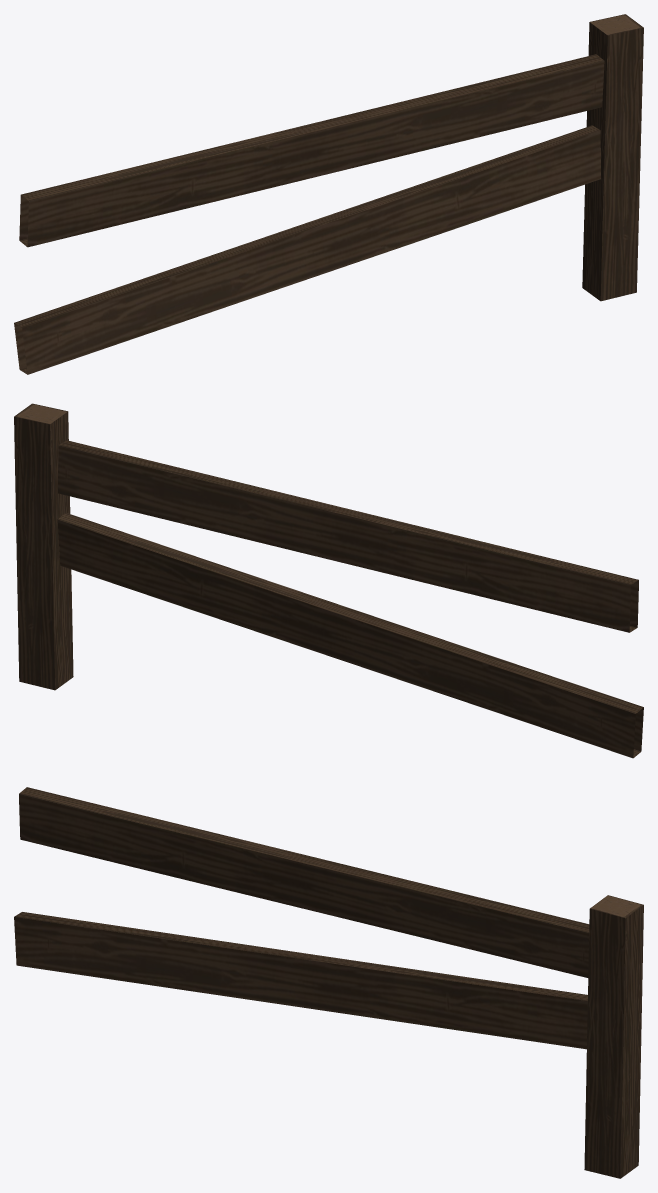
Rendered from Prop_WoodenFence_Extension1.gltf.
The picture shows the model from 3 angles, top to bottom: view 1: azimuth 30°, elevation 25°; view 2: azimuth 150°, elevation 25°; view 3: azimuth 330°, elevation 25°; orthographic projection.
Parts seen in each view (by area): view 1: Prop_WoodenFence_Extension1; view 2: Prop_WoodenFence_Extension1; view 3: Prop_WoodenFence_Extension1.
Part boxes in pixels (x1,y1,x2,y2): Prop_WoodenFence_Extension1: (14, 14, 643, 374); Prop_WoodenFence_Extension1: (14, 403, 643, 758); Prop_WoodenFence_Extension1: (14, 787, 643, 1178).
Size of the model in its own units: 2.05 by 0.8381 by 0.1104.
Materials: 1 (1 with a texture image).
